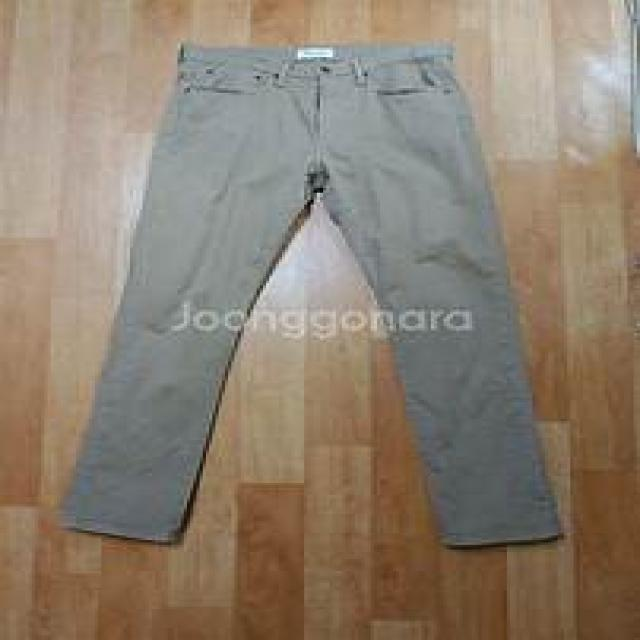long-pants: (61, 42, 562, 550)
